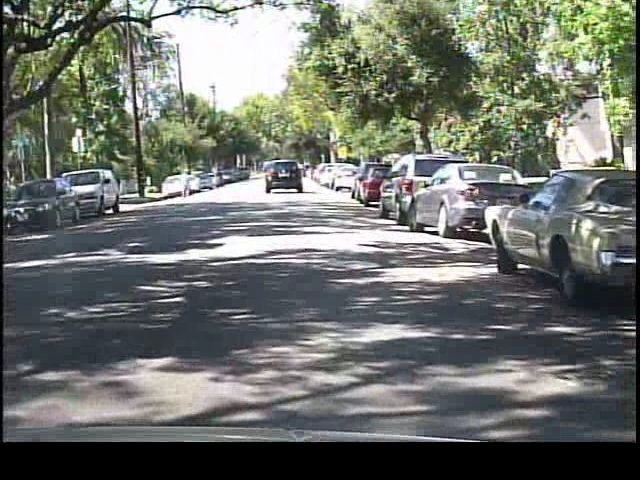person: (179, 166, 195, 201)
